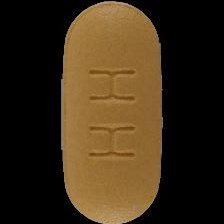55700-347: (0, 0, 224, 224)
